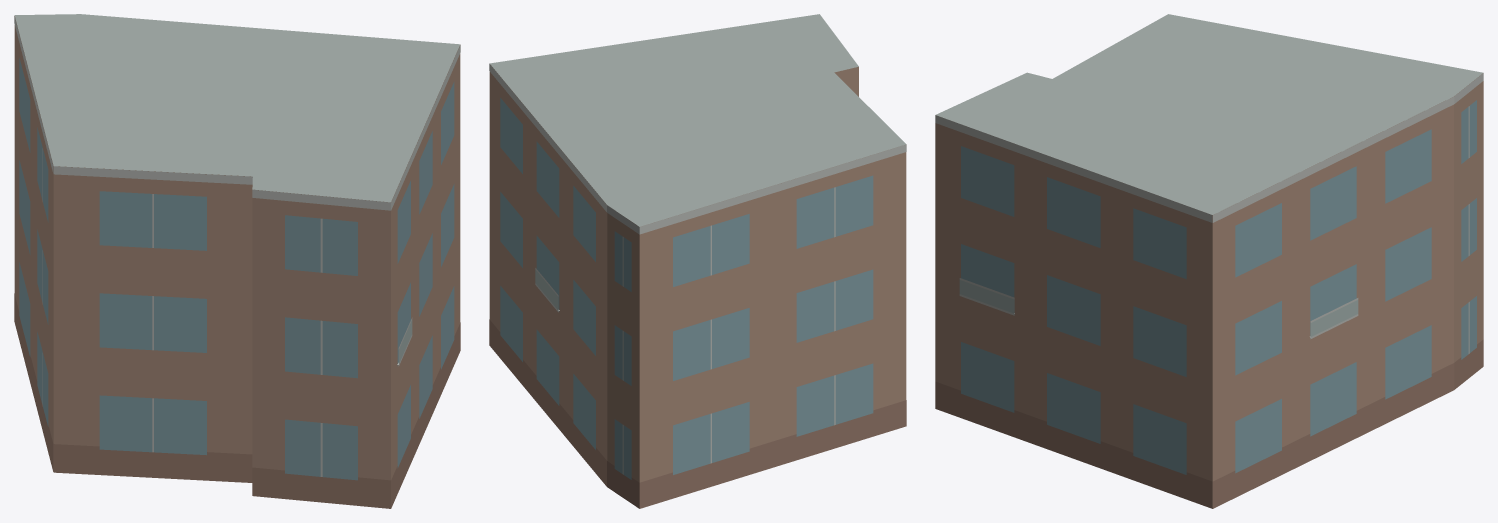
The model's file is survey-upis-32955690.glb.
The picture shows the model from 3 angles, left to right: view 1: azimuth 30°, elevation 25°; view 2: azimuth 150°, elevation 25°; view 3: azimuth 270°, elevation 25°; orthographic projection. The views are drawn at different scales.
Visible parts, largest first — view 1: survey-upis-32955690.tmp; view 2: survey-upis-32955690.tmp; view 3: survey-upis-32955690.tmp.
Part boxes in pixels (x1=…): survey-upis-32955690.tmp: x1=14, y1=14, x2=460, y2=508; survey-upis-32955690.tmp: x1=489, y1=14, x2=906, y2=508; survey-upis-32955690.tmp: x1=935, y1=14, x2=1483, y2=508.
Bounding box in the file's own units: 13.22 × 9 × 15.24.
